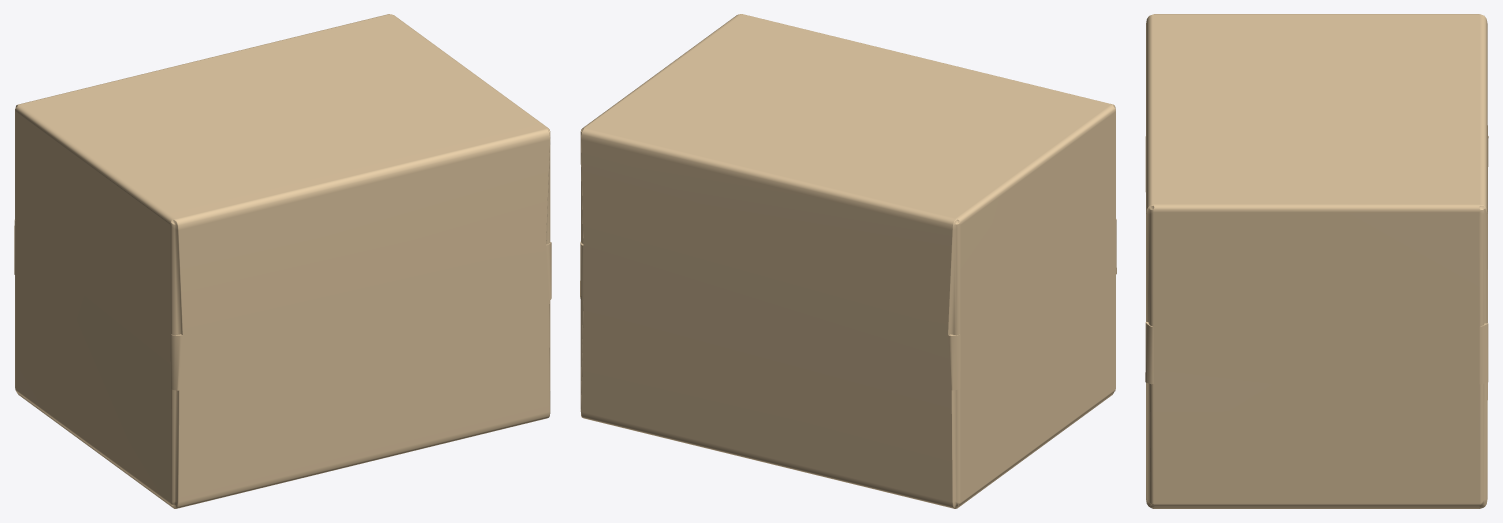
The model's file is box_cardboard_a01.glb.
The picture shows the model from 3 angles, left to right: view 1: azimuth 30°, elevation 25°; view 2: azimuth 150°, elevation 25°; view 3: azimuth 270°, elevation 25°; orthographic projection. The views are drawn at different scales.
Visible parts, largest first — view 1: sm_box_a01_mesh_00.001; view 2: sm_box_a01_mesh_00.001; view 3: sm_box_a01_mesh_00.001.
Boxes of the visible parts, left/top/right/bottom form: sm_box_a01_mesh_00.001: left=14, top=14, right=551, bottom=508; sm_box_a01_mesh_00.001: left=580, top=14, right=1116, bottom=508; sm_box_a01_mesh_00.001: left=1145, top=14, right=1488, bottom=508.
Size of the model in its own units: 0.6994 by 0.5099 by 0.5212.
